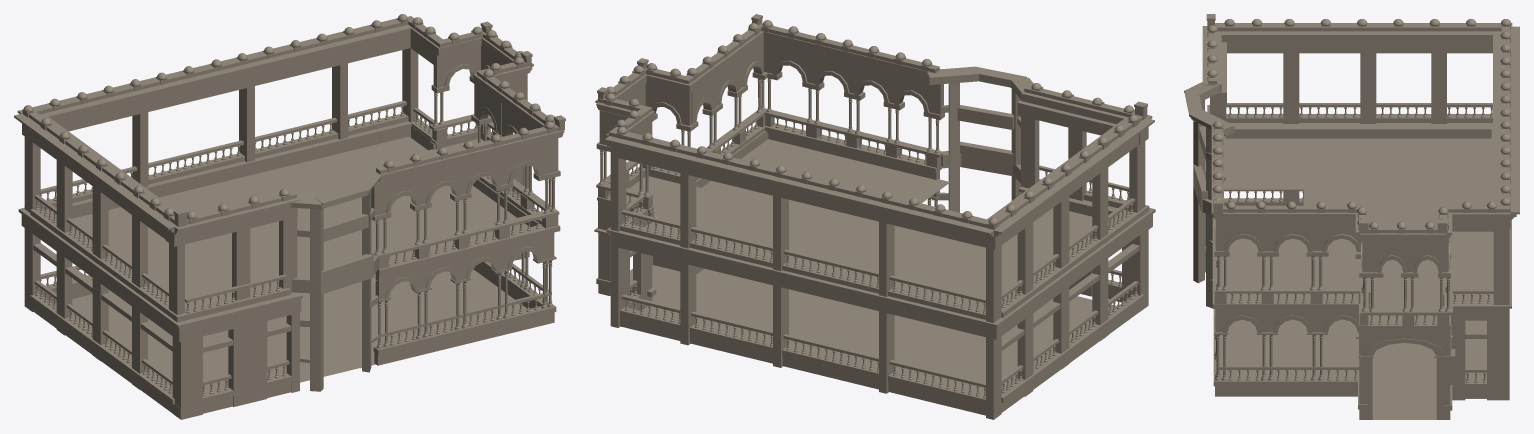
The model's file is filipino_ruins.glb.
The picture shows the model from 3 angles, left to right: view 1: azimuth 30°, elevation 25°; view 2: azimuth 150°, elevation 25°; view 3: azimuth 270°, elevation 25°; orthographic projection.
Visible parts, largest first — view 1: fsecond_floor, pPlane2, top_rim6, pCube13, orb_main_base (×3), railing_base (×2), pCube14, base_center, railing_base10, square_pillar_24, top_rim7, base_left (+57 smaller); view 2: fsecond_floor, pPlane2, orb_main_base (×4), pCube14, pCube13, bottom_floor4, top_rim6, railing_base4, railing_base10, top_rim7, railing_top8, pCube16 (+54 smaller); view 3: fsecond_floor, pPlane2, orb_main_base (×4), top_rim7, top_rim6, pCube15, railing_top9, pCube10, pCube16, railing_base8, bottom_floor1, pPlane4 (+47 smaller).
Part boxes in pixels (<box>): fsecond_floor: <box>72,136,528,309</box>; pPlane2: <box>53,254,497,392</box>; top_rim6: <box>17,18,411,122</box>; pCube13: <box>56,36,410,131</box>; orb_main_base (×3): <box>29,16,559,223</box>; railing_base (×2): <box>373,224,560,355</box>; pCube14: <box>72,126,410,218</box>; base_center: <box>228,321,267,406</box>; railing_base10: <box>40,113,408,210</box>; square_pillar_24: <box>310,208,323,391</box>; top_rim7: <box>14,113,176,233</box>; base_left: <box>176,336,202,419</box>; fsecond_floor: <box>645,139,1092,309</box>; pPlane2: <box>643,275,1117,394</box>; orb_main_base (×4): <box>610,23,1142,227</box>; pCube14: <box>617,235,996,339</box>; pCube13: <box>616,146,995,249</box>; bottom_floor4: <box>620,315,985,415</box>; top_rim6: <box>604,131,1003,237</box>; railing_base4: <box>620,307,985,404</box>; railing_base10: <box>620,223,985,319</box>; top_rim7: <box>977,117,1154,238</box>; railing_top8: <box>617,230,1004,324</box>; pCube16: <box>982,214,1152,339</box>; fsecond_floor: <box>1224,138,1491,301</box>; pPlane2: <box>1248,319,1486,398</box>; orb_main_base (×4): <box>1214,24,1510,212</box>; top_rim7: <box>1215,23,1512,42</box>; top_rim6: <box>1493,26,1519,219</box>; pCube15: <box>1227,42,1492,53</box>; railing_top9: <box>1230,123,1492,131</box>; pCube10: <box>1487,308,1509,400</box>; pCube16: <box>1225,132,1491,138</box>; railing_base8: <box>1226,114,1492,122</box>; bottom_floor1: <box>1215,386,1357,396</box>; pPlane4: <box>1372,395,1436,419</box>.
Bounding box in the file's own units: 36.95 × 16.42 × 24.78.
